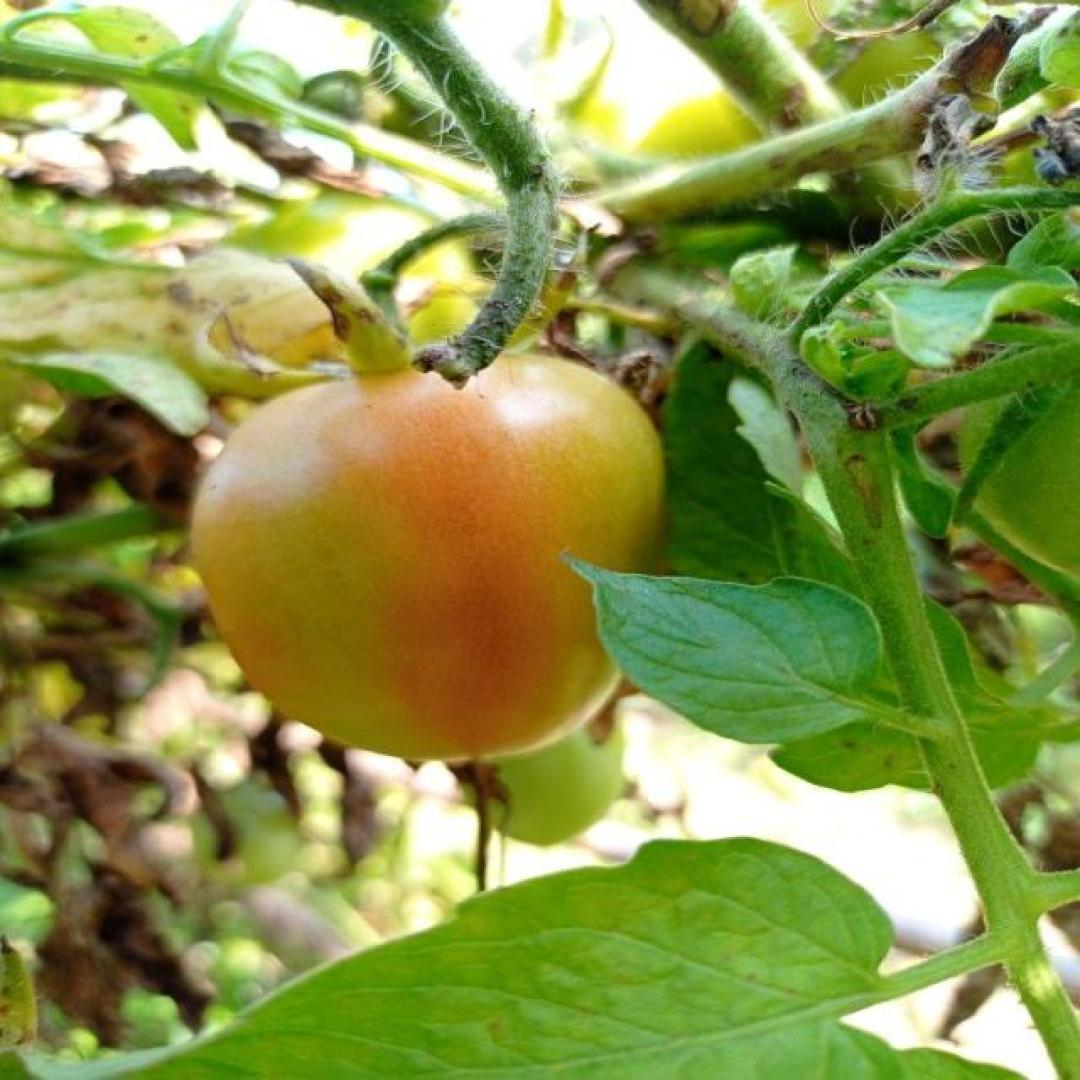setengah_matang: (186, 351, 668, 764)
